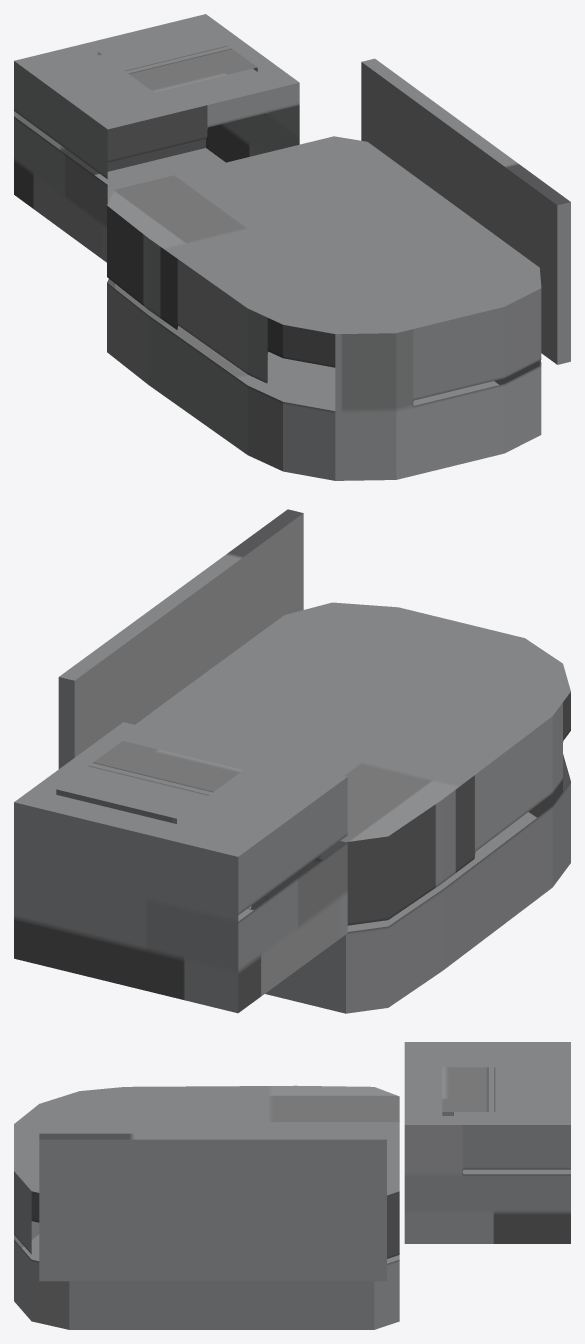
3 renders of one model, top to bottom at view 1: azimuth 30°, elevation 25°; view 2: azimuth 150°, elevation 25°; view 3: azimuth 270°, elevation 25°, orthographic. The views are drawn at different scales.
Size of the model in its own units: 1.13 by 0.86 by 2.21.
